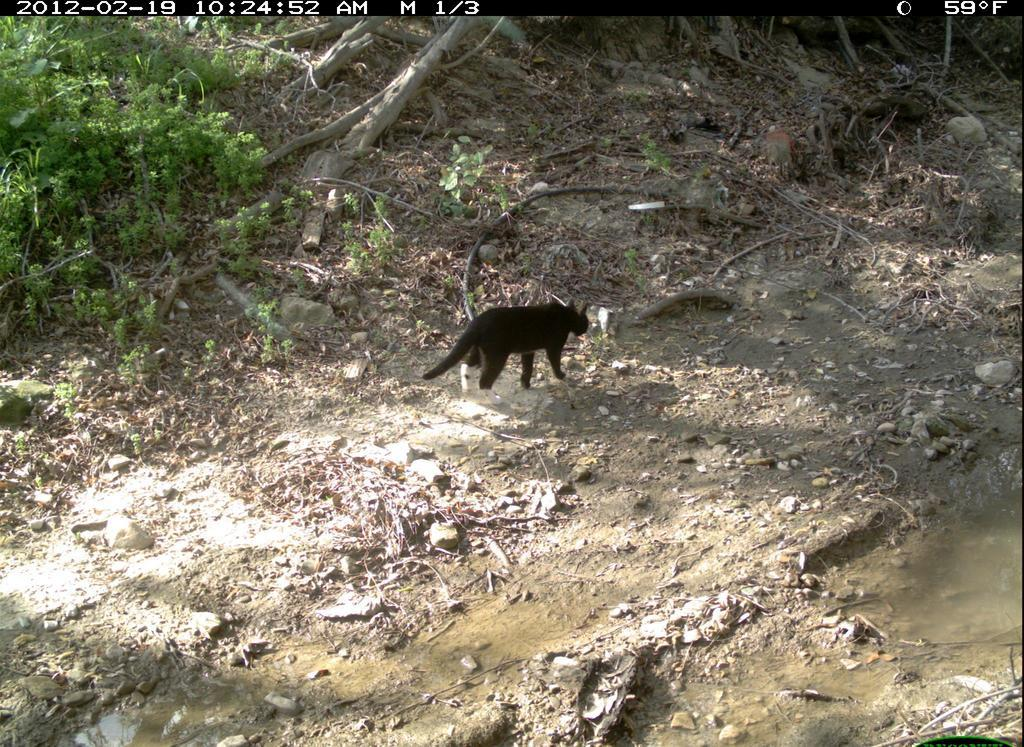cat: (411, 294, 602, 402)
